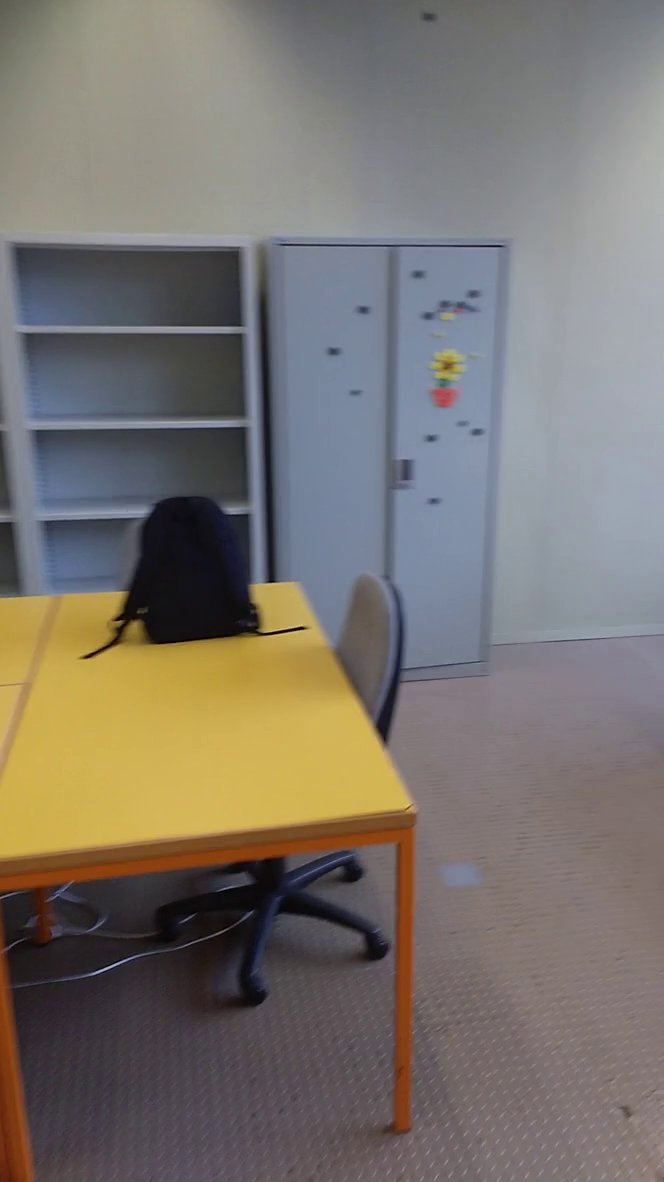bag: (81, 489, 313, 663)
chair: (158, 564, 408, 1006)
